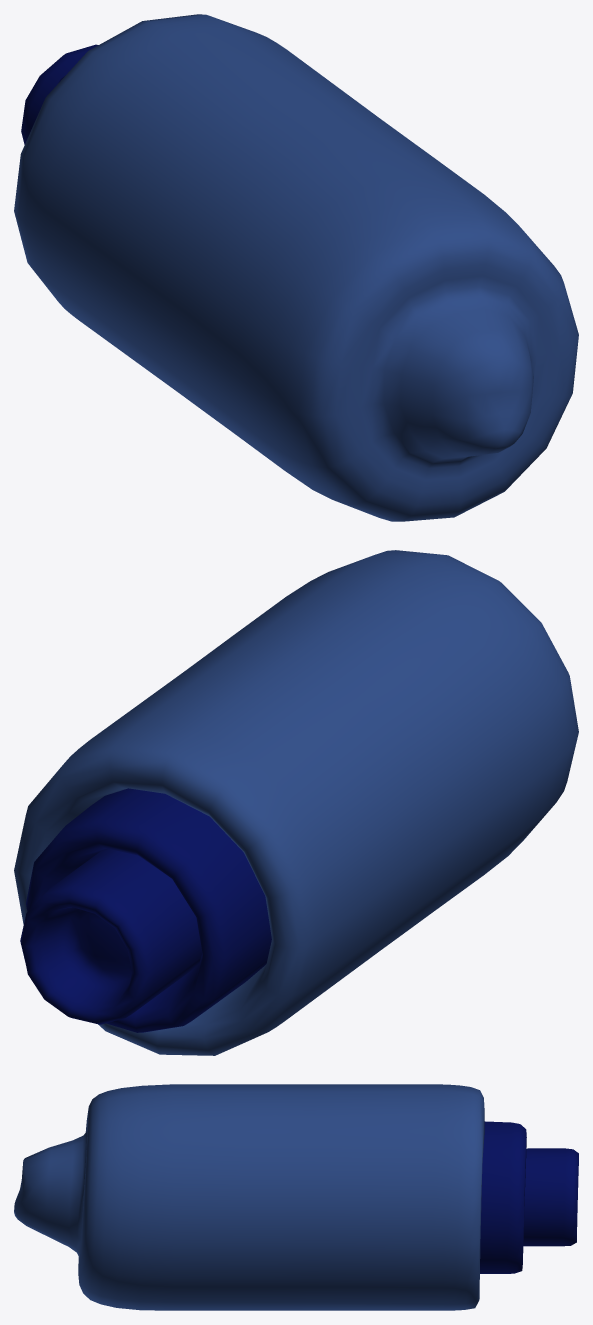
Rendered from Vso_Station_Cannon_Barrel_V2.FBX.
3 views of the same model, one above another, from view 1: azimuth 30°, elevation 25°; view 2: azimuth 150°, elevation 25°; view 3: azimuth 270°, elevation 25° (orthographic). The views are drawn at different scales.
Parts seen in each view (by area): view 1: Station_Cannon_Barrel; view 2: Station_Cannon_Barrel; view 3: Station_Cannon_Barrel.
Boxes of the visible parts, x1,y1,x2,y2 form: Station_Cannon_Barrel: [14, 14, 578, 521]; Station_Cannon_Barrel: [14, 550, 578, 1055]; Station_Cannon_Barrel: [14, 1084, 578, 1310].
Size of the model in its own units: 7.14 by 7.14 by 17.8.
